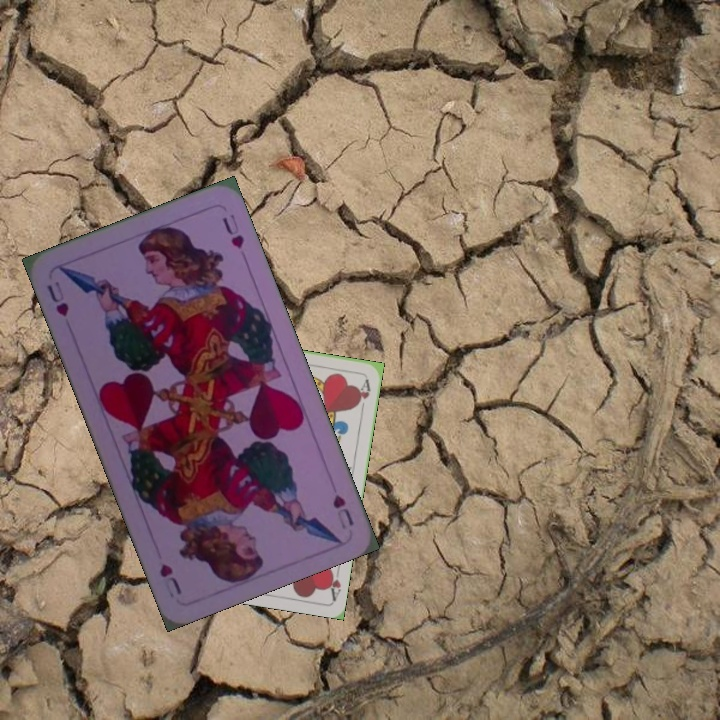HA: (324, 562, 344, 602)
HU: (43, 277, 72, 320), (328, 490, 357, 532)
